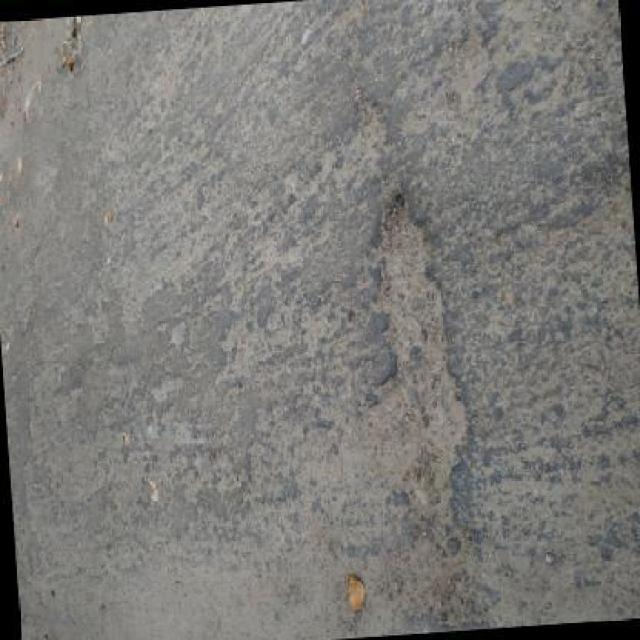pothole: (375, 195, 468, 546)
